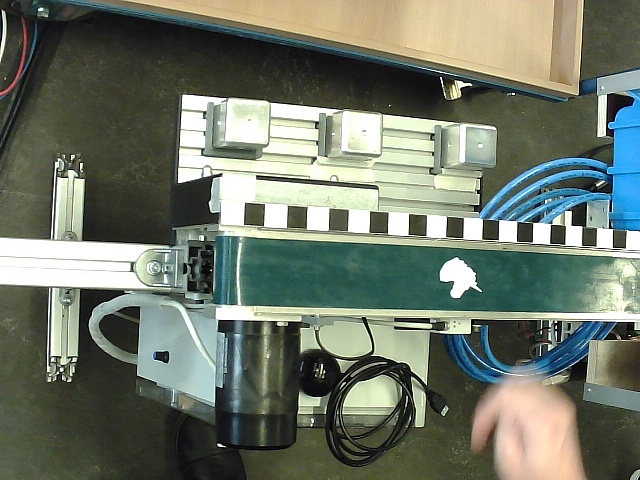unicorn: (438, 256, 483, 299)
